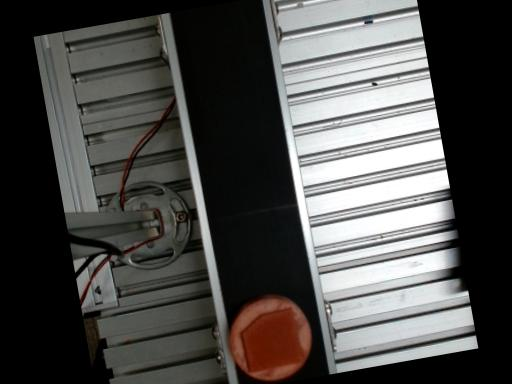Brown_Waper: (230, 293, 312, 380)
Not_Square: (240, 306, 304, 372)
